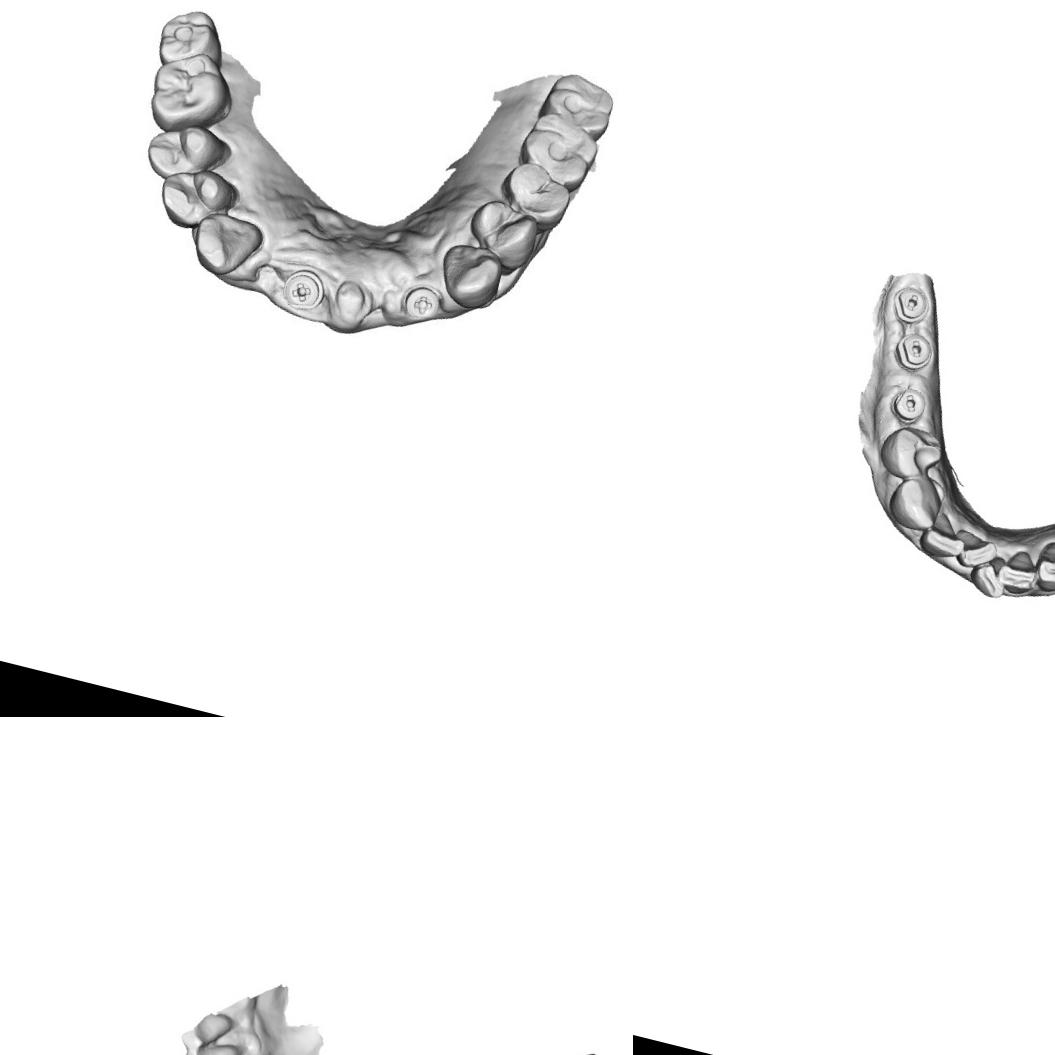canine: (432, 234, 507, 316), (185, 207, 264, 282), (881, 466, 948, 536), (1027, 533, 1055, 602)
implant_minus: (888, 326, 939, 376), (886, 280, 934, 330), (881, 382, 930, 430)
implant_plus: (278, 264, 327, 315), (396, 278, 444, 328)
incisor: (912, 508, 972, 567), (993, 543, 1044, 600), (964, 548, 1012, 603), (950, 524, 1002, 574), (178, 1032, 245, 1055)
molar: (140, 44, 242, 146), (516, 104, 605, 193), (153, 1, 236, 74), (539, 67, 618, 137)
premolar: (150, 159, 241, 240), (461, 194, 544, 276), (142, 115, 231, 188), (494, 158, 576, 231), (872, 419, 950, 487)
